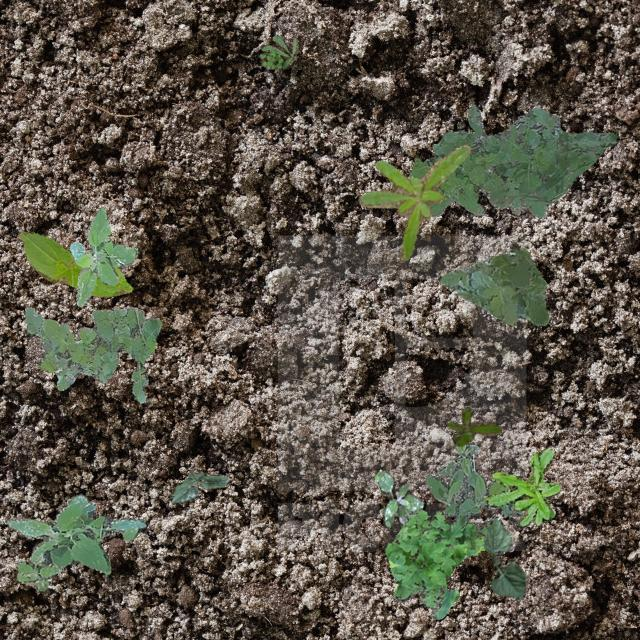crop: (17, 230, 132, 296), (482, 514, 528, 598), (168, 470, 228, 502)
weed: (407, 104, 615, 218), (5, 494, 144, 590), (23, 306, 160, 402), (358, 144, 470, 260), (384, 508, 490, 618), (439, 247, 548, 324), (426, 442, 522, 526), (68, 207, 136, 306), (484, 448, 560, 526), (373, 468, 422, 526), (446, 406, 501, 446), (258, 34, 296, 68)
